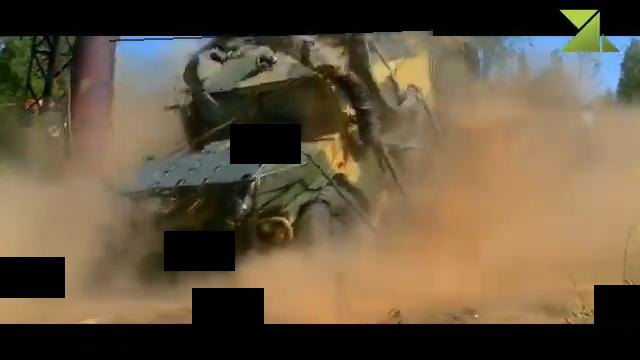MIL_HMMWV: (111, 31, 439, 252)
